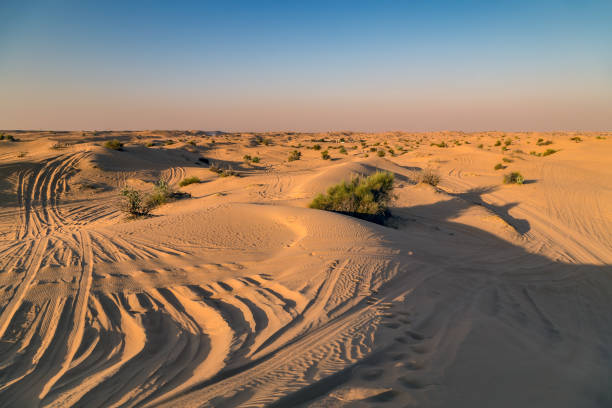human_footprint: (175, 263, 444, 405), (271, 288, 465, 402), (102, 227, 228, 366), (155, 244, 274, 319), (41, 231, 92, 397), (253, 264, 341, 353), (0, 237, 47, 335), (55, 152, 85, 217), (25, 163, 47, 237)
